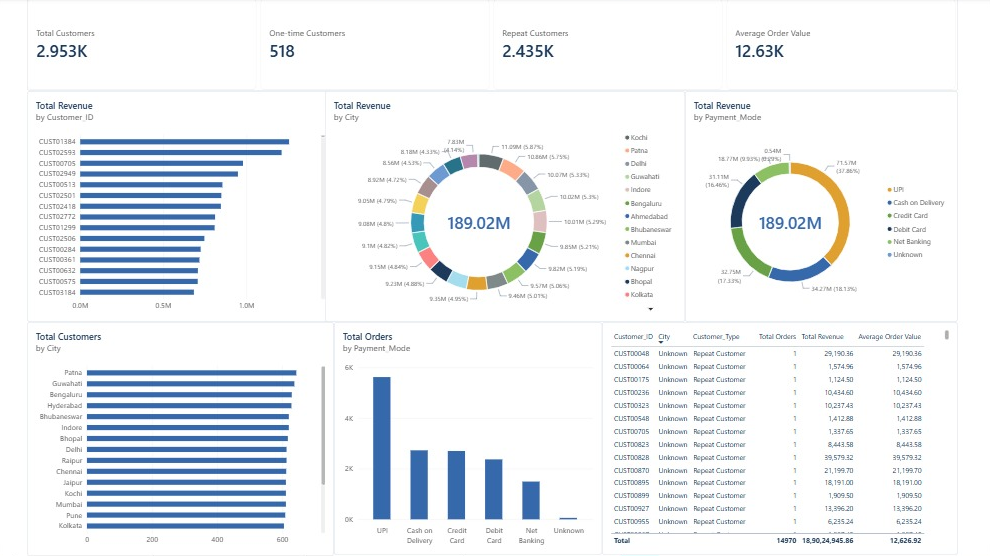

The page's visual inventory and layout, read from the dashboard file:
{"tool":"powerbi","page":{"name":"Customer & Payment","canvas":[1920,1080],"ordinal":3},"visuals":[{"type":"cardVisual","fields":{"Data":["Fact_Sales.Total Customers","Fact_Sales.One-time Customers","Fact_Sales.Repeat Customers","Fact_Sales.Average Order Value"]},"box":[54.2,0,1801.9,180],"z":0},{"type":"clusteredBarChart","fields":{"Category":["dim_customer.Customer_ID"],"Y":["Fact_Sales.Total Revenue"]},"box":[54.2,180,594.2,447.1],"z":1},{"type":"donutChart","fields":{"Category":["Fact_Sales.City"],"Y":["Fact_Sales.Total Revenue"]},"box":[631,180,696.8,447.1],"z":2},{"type":"clusteredBarChart","fields":{"Category":["Fact_Sales.City"],"Y":["Fact_Sales.Total Customers"]},"box":[54.2,627.1,594.2,452.9],"z":3},{"type":"donutChart","fields":{"Category":["Fact_Sales.Payment_Mode"],"Y":["Fact_Sales.Total Revenue"]},"box":[1327.7,180,528.4,447.1],"z":4},{"type":"clusteredColumnChart","fields":{"Category":["Fact_Sales.Payment_Mode"],"Y":["Fact_Sales.Total Orders"]},"box":[648.4,627.1,518.7,451],"z":5},{"type":"tableEx","fields":{"Values":["Fact_Sales.Customer_ID","Fact_Sales.City","Fact_Sales.Customer_Type","Fact_Sales.Total Orders","Fact_Sales.Total Revenue","Fact_Sales.Average Order Value"]},"box":[1167.1,627.1,689,451],"z":6}]}

Visuals, with their boxes in screenshot pixels (x1, y1, x2, y2), scaled from the page's 1920x1080 canvas onto the 990x556 screenshot:
cardVisual - Fact_Sales.Total Customers x Fact_Sales.One-time Customers: box(28, 0, 957, 93)
clusteredBarChart - dim_customer.Customer_ID x Fact_Sales.Total Revenue: box(28, 93, 334, 323)
donutChart - Fact_Sales.City x Fact_Sales.Total Revenue: box(325, 93, 685, 323)
clusteredBarChart - Fact_Sales.City x Fact_Sales.Total Customers: box(28, 323, 334, 555)
donutChart - Fact_Sales.Payment_Mode x Fact_Sales.Total Revenue: box(685, 93, 957, 323)
clusteredColumnChart - Fact_Sales.Payment_Mode x Fact_Sales.Total Orders: box(334, 323, 602, 555)
tableEx - Fact_Sales.Customer_ID x Fact_Sales.City: box(602, 323, 957, 555)
